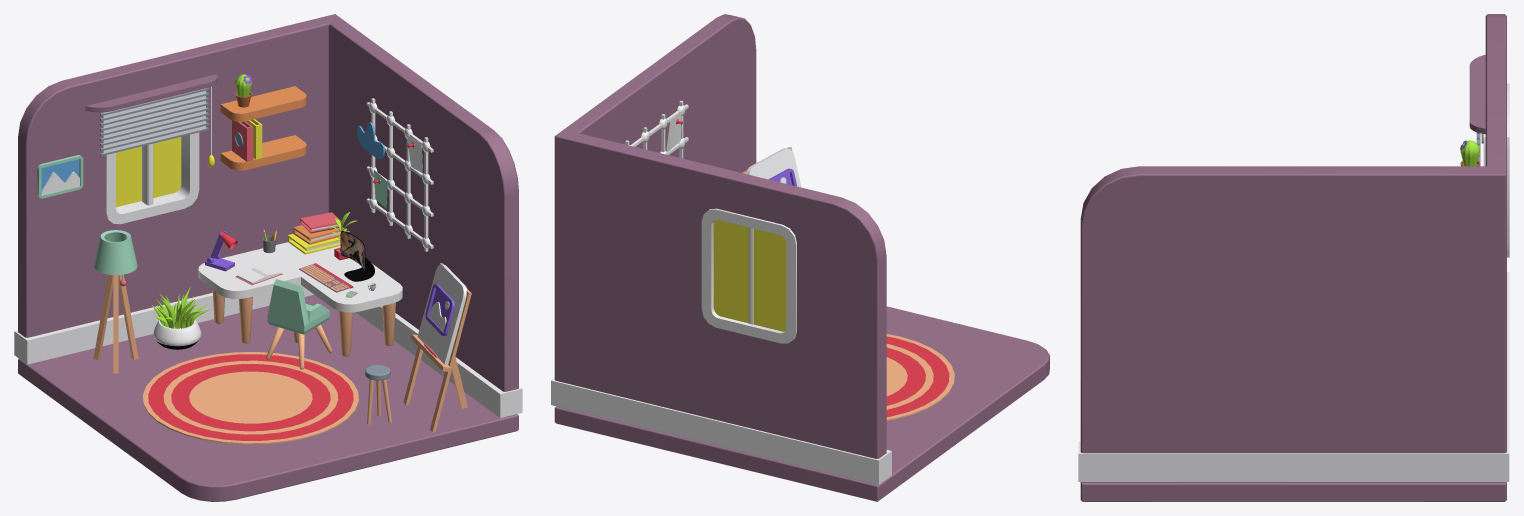
The picture shows the model from 3 angles, left to right: view 1: azimuth 30°, elevation 25°; view 2: azimuth 150°, elevation 25°; view 3: azimuth 270°, elevation 25°; orthographic projection. The views are drawn at different scales.
Visible parts, largest first — view 1: Walls_3, Floor_0, Carpet_19, Desktop_4, Cube.002_1, Book_17, CornerLamp_18, Cube.022_28, Cube.012_2, Chear_37, Plant02_20, Cube.023_32 (+7 smaller); view 2: Walls_3, Floor_0, Cube.002_1, Cube.012_2, Carpet_19, Book_17, Cube.022_28; view 3: Walls_3, Cube.002_1, Floor_0.
Boxes of the visible parts, x1=… form: Walls_3: x1=18, y1=14, x2=518, y2=417; Floor_0: x1=18, y1=294, x2=518, y2=501; Carpet_19: x1=143, y1=352, x2=358, y2=444; Desktop_4: x1=198, y1=242, x2=402, y2=356; Cube.002_1: x1=14, y1=285, x2=522, y2=418; Book_17: x1=403, y1=263, x2=471, y2=432; CornerLamp_18: x1=93, y1=230, x2=138, y2=373; Cube.022_28: x1=366, y1=98, x2=433, y2=251; Cube.012_2: x1=116, y1=137, x2=181, y2=207; Chear_37: x1=267, y1=279, x2=329, y2=334; Plant02_20: x1=151, y1=286, x2=209, y2=349; Cube.023_32: x1=37, y1=155, x2=83, y2=198; Walls_3: x1=554, y1=14, x2=886, y2=484; Floor_0: x1=554, y1=306, x2=1049, y2=501; Cube.002_1: x1=551, y1=378, x2=891, y2=484; Cube.012_2: x1=713, y1=220, x2=786, y2=331; Carpet_19: x1=886, y1=334, x2=954, y2=420; Book_17: x1=742, y1=147, x2=801, y2=187; Cube.022_28: x1=625, y1=101, x2=688, y2=158; Walls_3: x1=1080, y1=14, x2=1509, y2=482; Cube.002_1: x1=1078, y1=272, x2=1509, y2=481; Floor_0: x1=1080, y1=482, x2=1506, y2=501.
Size of the model in its own units: 20.21 by 17 by 20.23.
3 materials, 2 textured.
